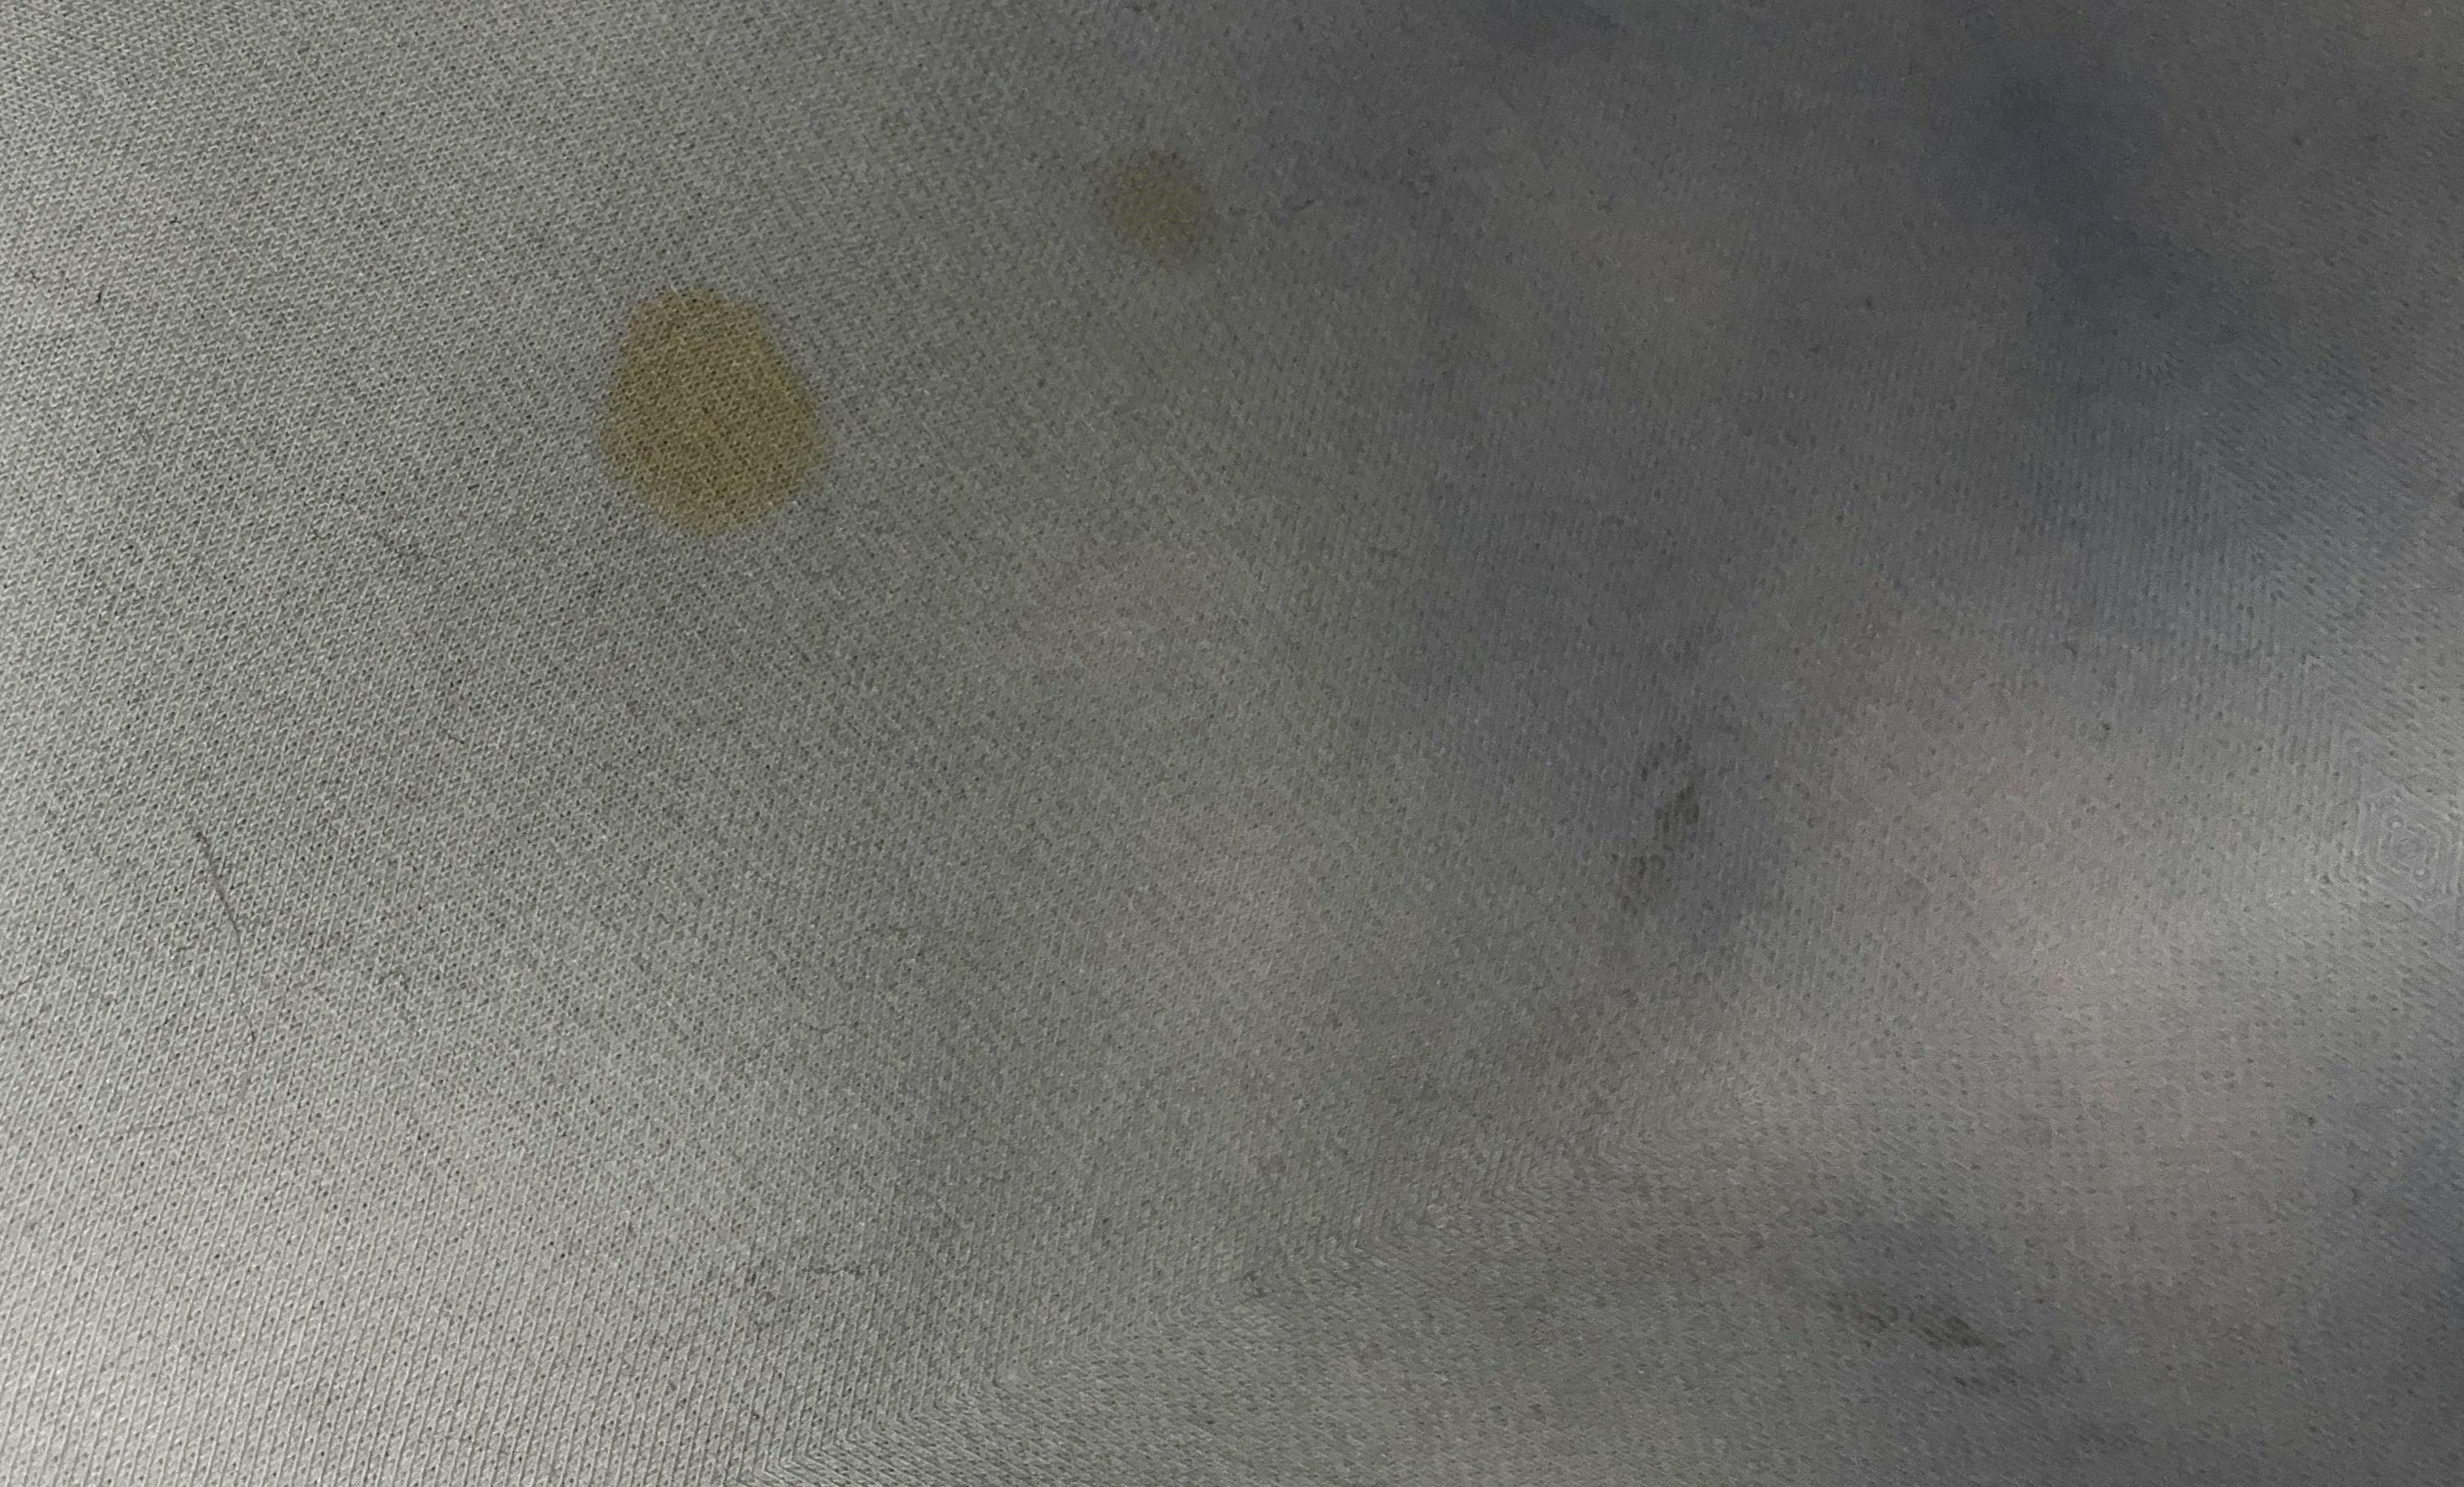stain: (593, 266, 854, 558), (1072, 141, 1267, 297)
